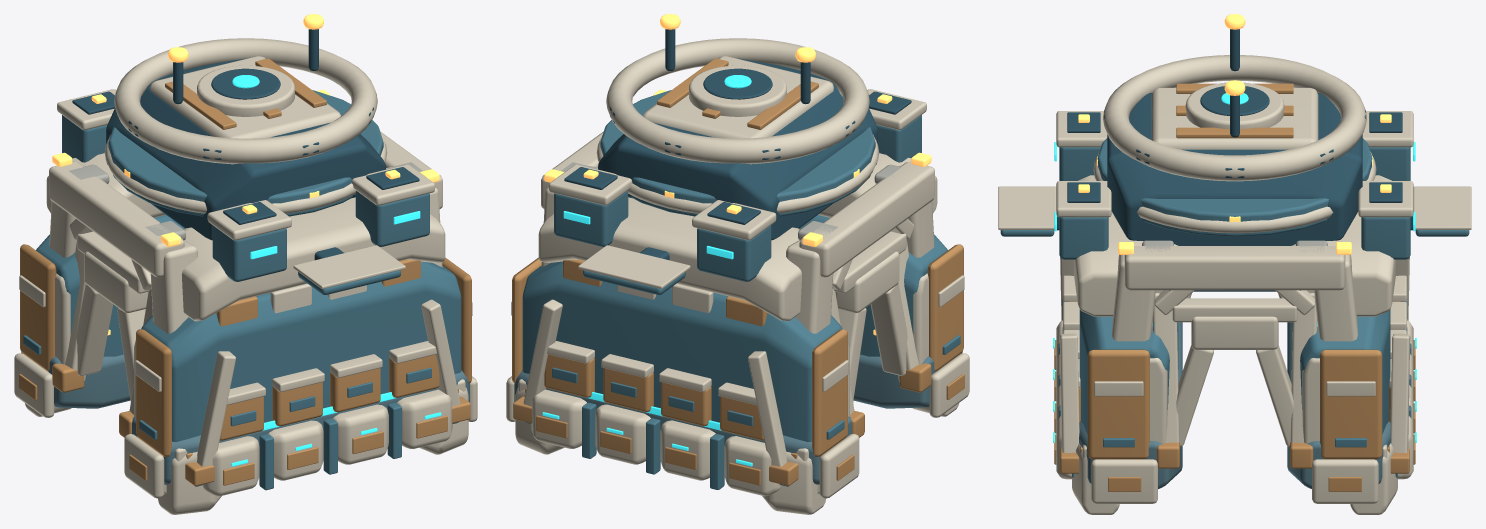
Rendered from auto_explore.glb.
3 renders of one model, left to right at view 1: azimuth 30°, elevation 25°; view 2: azimuth 150°, elevation 25°; view 3: azimuth 270°, elevation 25°, orthographic.
Parts seen in each view (by area): view 1: Tapered station pressure wall, Turning observation annulus, Station elevated command hull, Upper ivory side armor, Cross portal armored lintel, Command load saucer, Command deck crown armor, Portal end pressure armor, Portal end pressure armor.002, Wall borne avionics block, Wall borne avionics block.001, Ivory solar vane border (+57 smaller); view 2: Tapered station pressure wall.001, Turning observation annulus, Station elevated command hull, Upper ivory side armor.001, Cross portal armored lintel, Command load saucer, Command deck crown armor, Portal end pressure armor.002, Portal end pressure armor, Wall borne avionics block.002, Wall borne avionics block.003, Ivory solar vane border.001 (+57 smaller); view 3: Station elevated command hull, Turning observation annulus, Cross portal armored lintel.001, Portal end pressure armor.001, Portal end pressure armor.003, Command deck crown armor, Command load saucer, Upper ivory side armor, Upper ivory side armor.001, Portal upper pressure header.001, Tapered station pressure wall.001, Tapered station pressure wall (+42 smaller).
Boxes of the visible parts, <box> form: Tapered station pressure wall: <box>141,261,461,441</box>; Turning observation annulus: <box>114,38,377,164</box>; Station elevated command hull: <box>106,58,385,240</box>; Upper ivory side armor: <box>182,197,445,321</box>; Cross portal armored lintel: <box>49,161,184,277</box>; Command load saucer: <box>108,90,383,216</box>; Command deck crown armor: <box>150,56,340,138</box>; Portal end pressure armor: <box>136,329,171,456</box>; Portal end pressure armor.002: <box>20,244,56,371</box>; Wall borne avionics block: <box>212,225,286,281</box>; Wall borne avionics block.001: <box>355,191,429,246</box>; Ivory solar vane border: <box>293,245,405,288</box>; Tapered station pressure wall.001: <box>522,261,842,441</box>; Turning observation annulus: <box>606,38,869,164</box>; Station elevated command hull: <box>598,58,877,240</box>; Upper ivory side armor.001: <box>538,197,801,321</box>; Cross portal armored lintel: <box>799,161,934,277</box>; Command load saucer: <box>600,90,875,216</box>; Command deck crown armor: <box>643,56,833,138</box>; Portal end pressure armor.002: <box>812,329,847,456</box>; Portal end pressure armor: <box>927,244,963,371</box>; Wall borne avionics block.002: <box>697,225,771,281</box>; Wall borne avionics block.003: <box>554,191,628,246</box>; Ivory solar vane border.001: <box>578,245,690,288</box>; Station elevated command hull: <box>1107,93,1362,245</box>; Turning observation annulus: <box>1103,55,1366,181</box>; Cross portal armored lintel.001: <box>1124,246,1345,290</box>; Portal end pressure armor.001: <box>1087,349,1149,459</box>; Portal end pressure armor.003: <box>1320,349,1382,459</box>; Command deck crown armor: <box>1151,87,1318,149</box>; Command load saucer: <box>1097,138,1372,236</box>; Upper ivory side armor: <box>1074,175,1177,316</box>; Upper ivory side armor.001: <box>1292,175,1395,316</box>; Portal upper pressure header.001: <box>1191,316,1278,349</box>; Tapered station pressure wall.001: <box>1291,309,1390,434</box>; Tapered station pressure wall: <box>1079,309,1178,434</box>.
Bounding box in the file's own units: 2.61 × 3 × 3.26.
